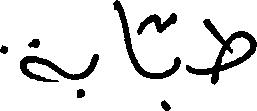X: (0, 34, 59, 86), (216, 24, 256, 87), (116, 0, 136, 75), (173, 8, 182, 78), (89, 49, 98, 79)
